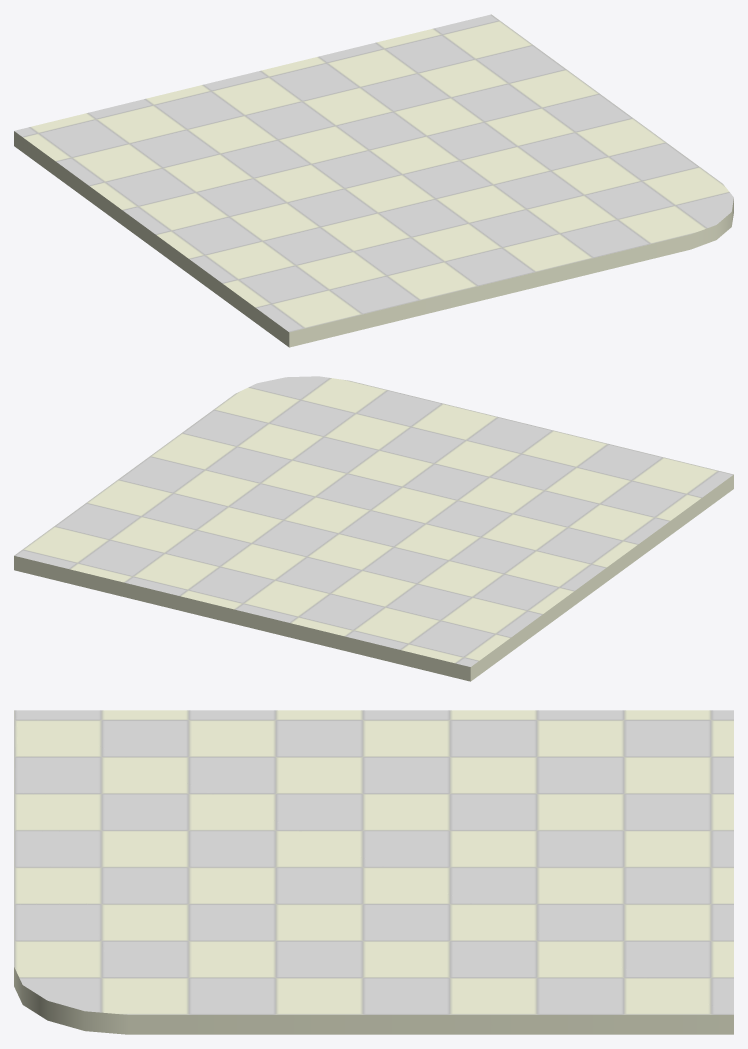
File: Piso.fbx
3 renders of one model, top to bottom at view 1: azimuth 30°, elevation 25°; view 2: azimuth 150°, elevation 25°; view 3: azimuth 270°, elevation 25°, orthographic. The views are drawn at different scales.
Visible parts, largest first — view 1: FloorBase.002; view 2: FloorBase.002; view 3: FloorBase.002.
Part boxes in pixels (left/top/right/bottom): FloorBase.002: left=14, top=14, right=733, bottom=347; FloorBase.002: left=14, top=376, right=733, bottom=681; FloorBase.002: left=14, top=710, right=733, bottom=1034.
Bounding box in the file's own units: 310 × 9.42 × 310.
2 materials, 1 textured.
